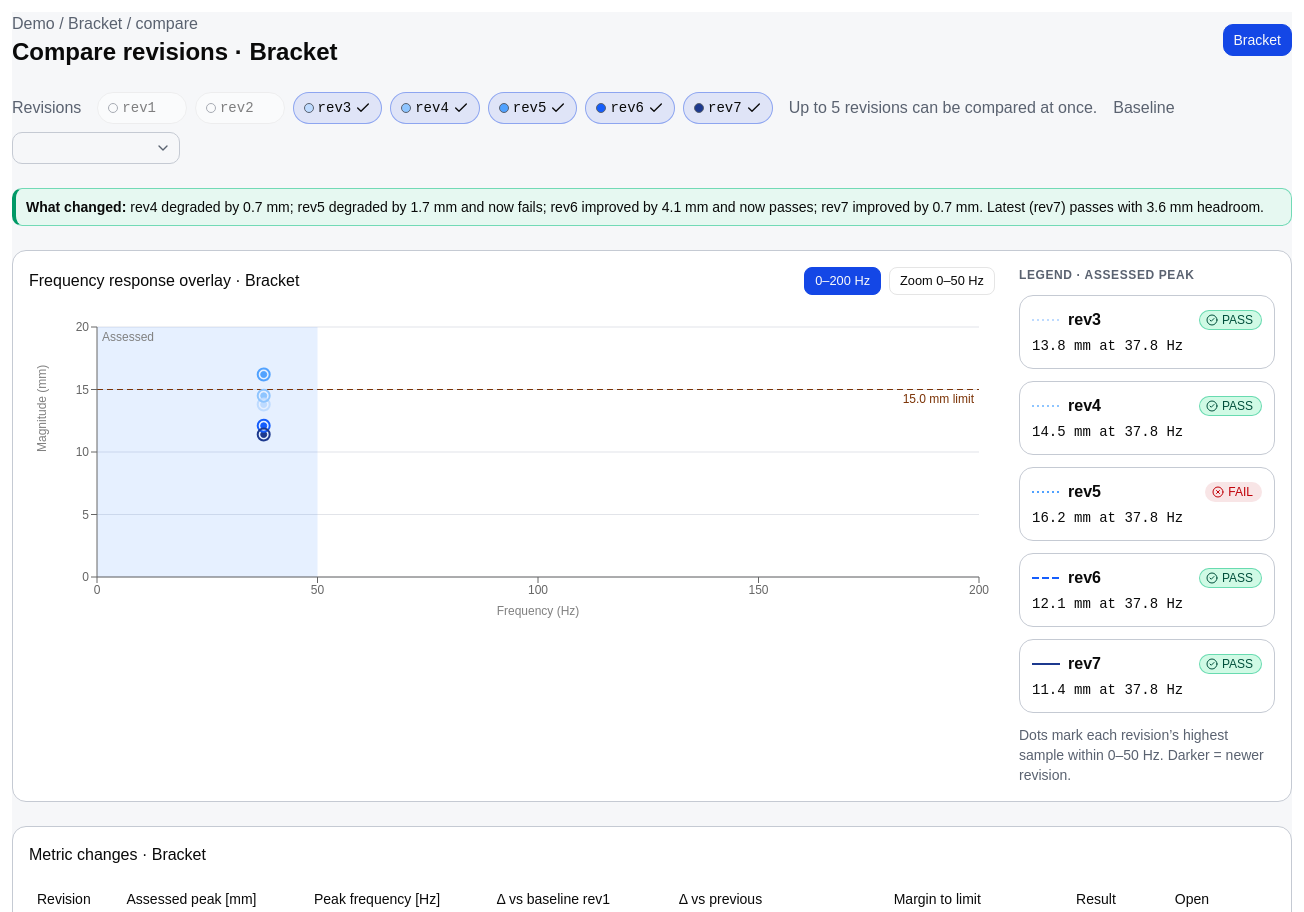
it: overlays at most five revisions and disables the rest until one is freed
Expected: the button "rev1" is disabled, left=97, top=92, right=187, bottom=124
Expected: the button "rev2" is disabled, left=195, top=92, right=285, bottom=124
What coordinates should you click on to do the following:
click the button "rev3"
I would click on:
 (337, 108)
Its box is left=293, top=92, right=382, bottom=124.
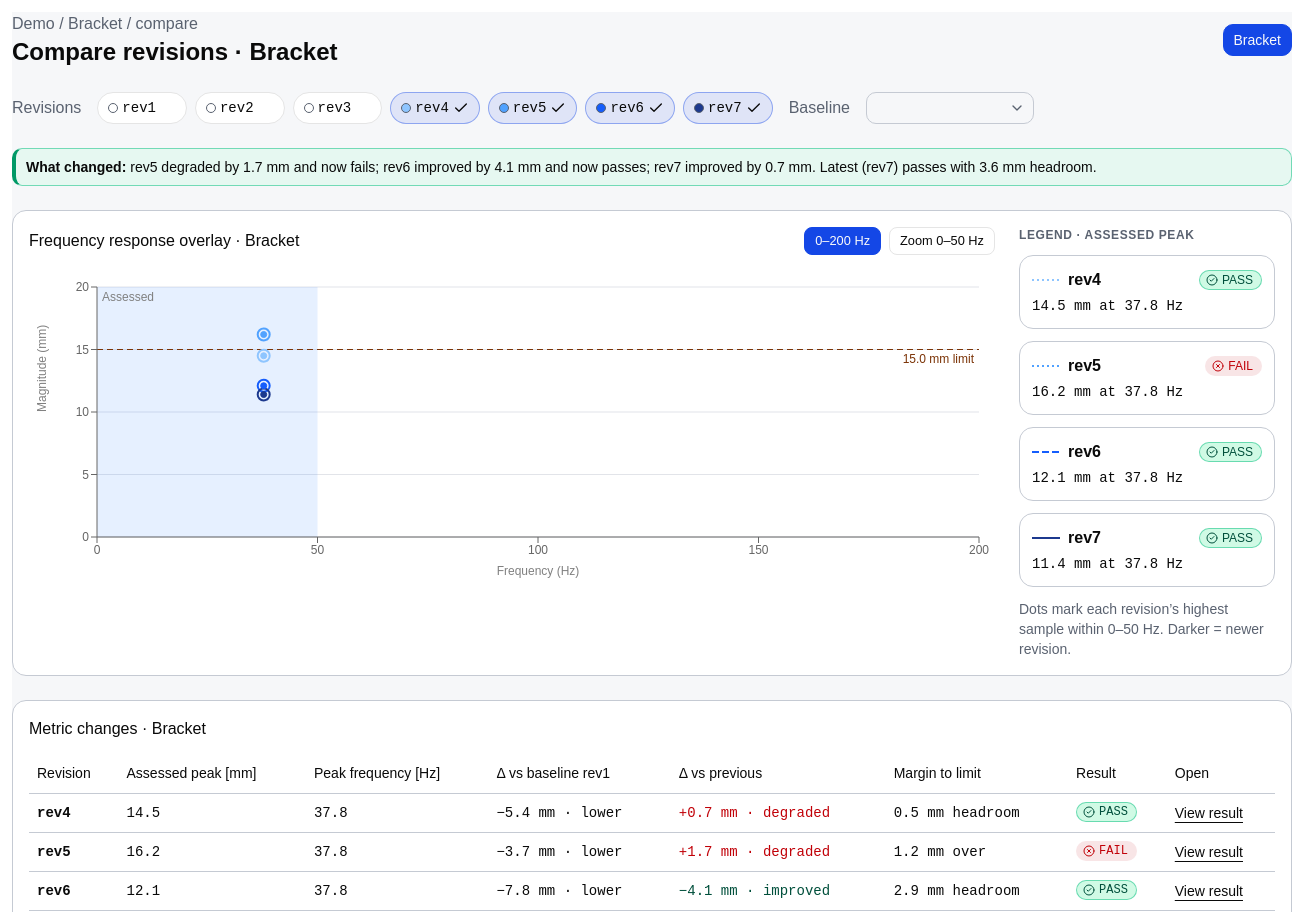
Expected: the button "rev1" is enabled, left=97, top=92, right=187, bottom=124
Expected: the text "Up to 5 revisions can be compared at once." is gone
